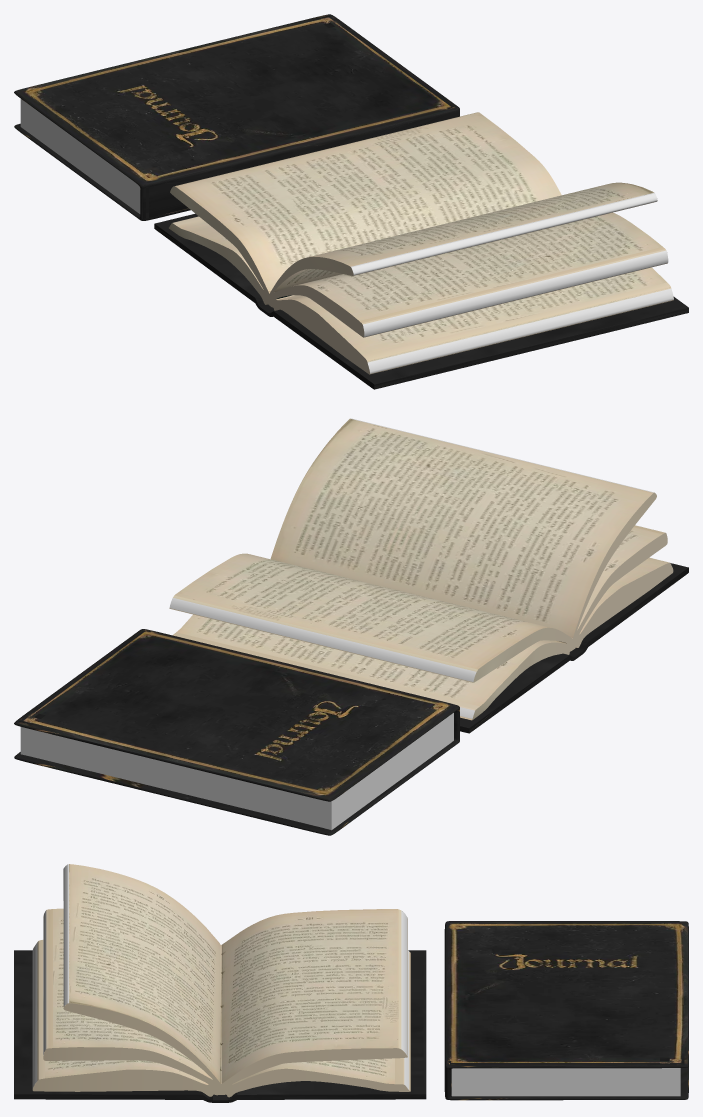
File: research-mobile.glb
3 renders of one model, top to bottom at view 1: azimuth 30°, elevation 25°; view 2: azimuth 150°, elevation 25°; view 3: azimuth 270°, elevation 25°, orthographic. The views are drawn at different scales.
Bounding box in the file's own units: 0.2361 × 0.0733 × 0.4603.
3 materials, 2 textured.
